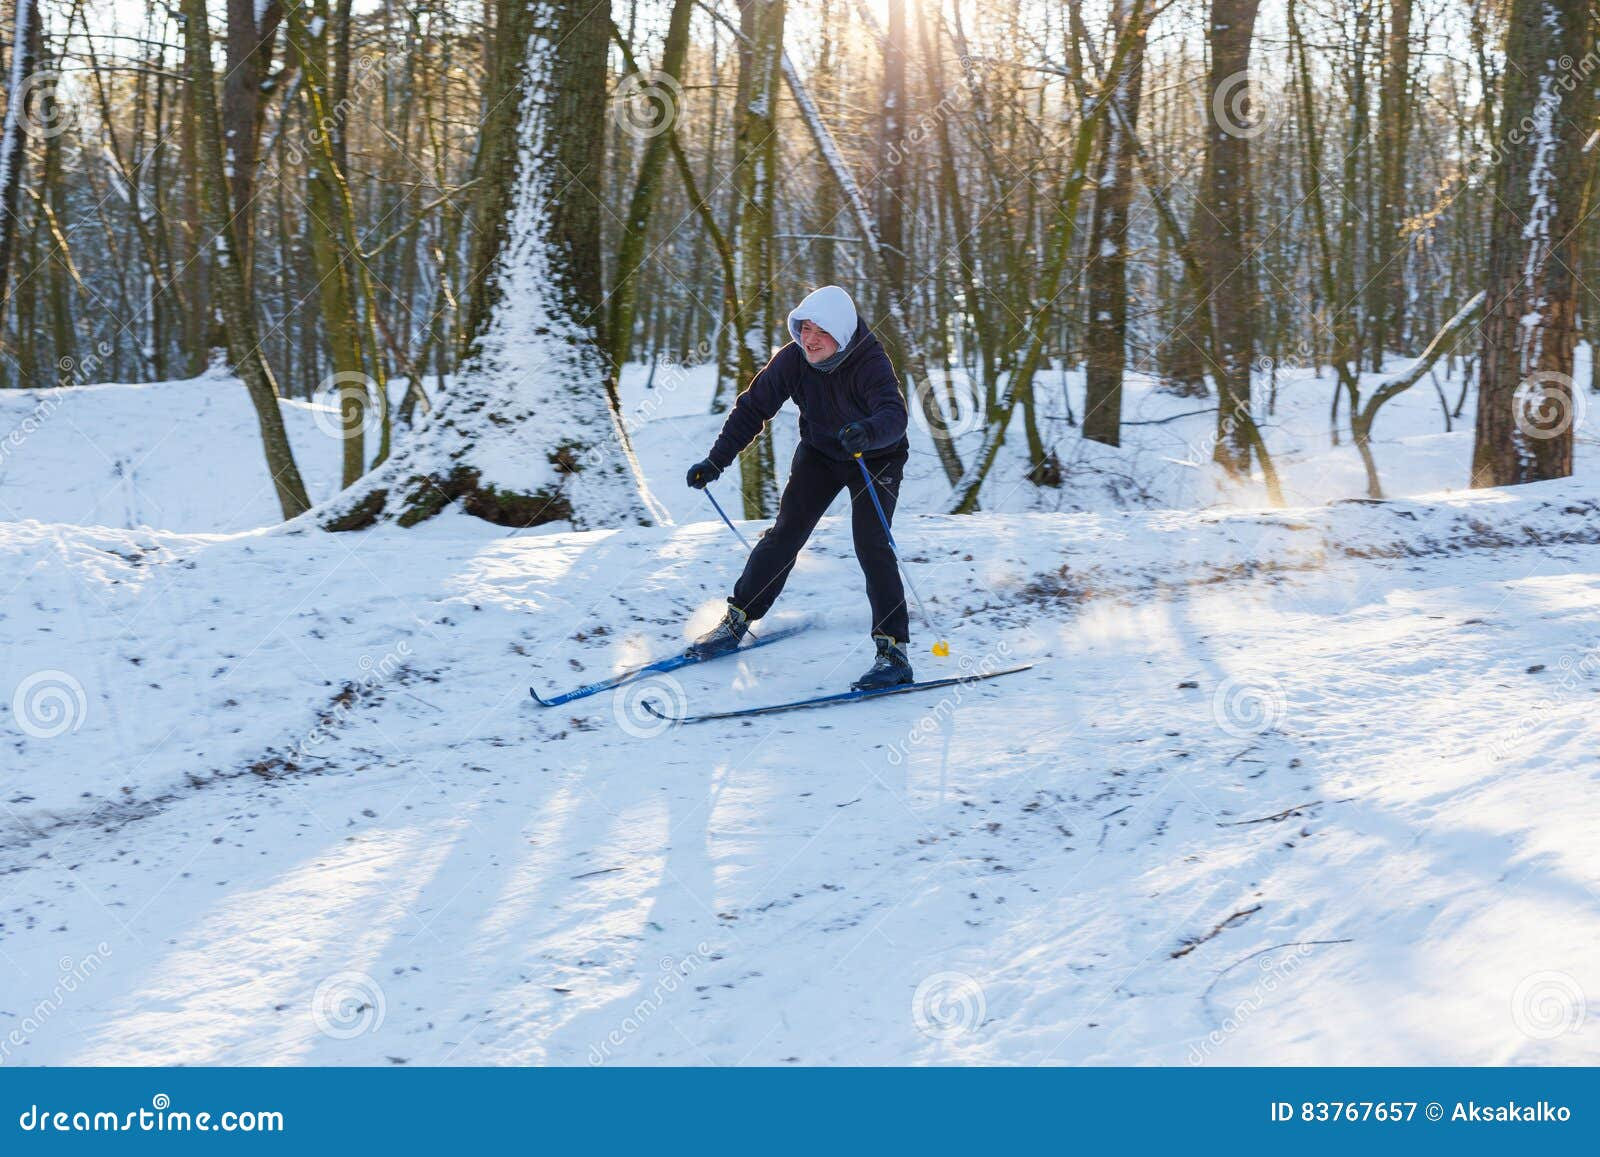skier: (499, 215, 1056, 753)
